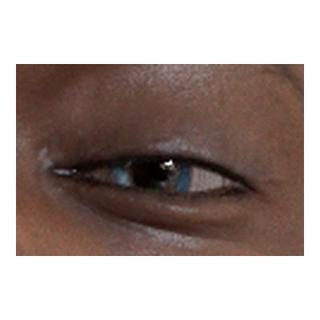pupil: (134, 159, 168, 193)
